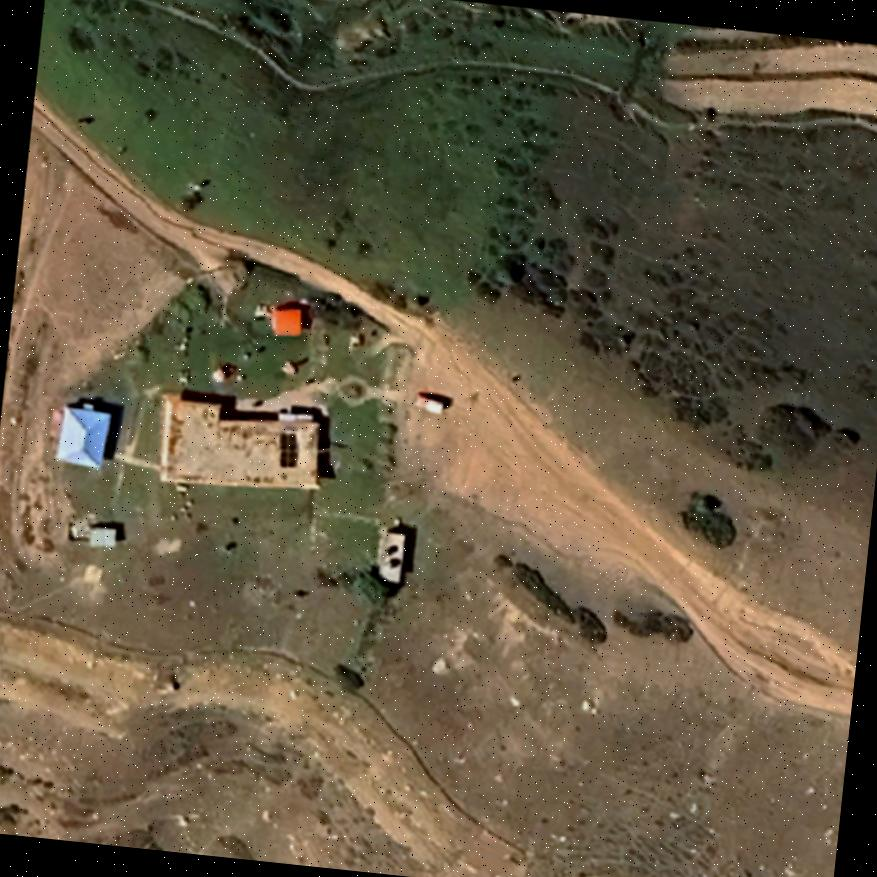Solarpanel: (274, 428, 302, 471)
